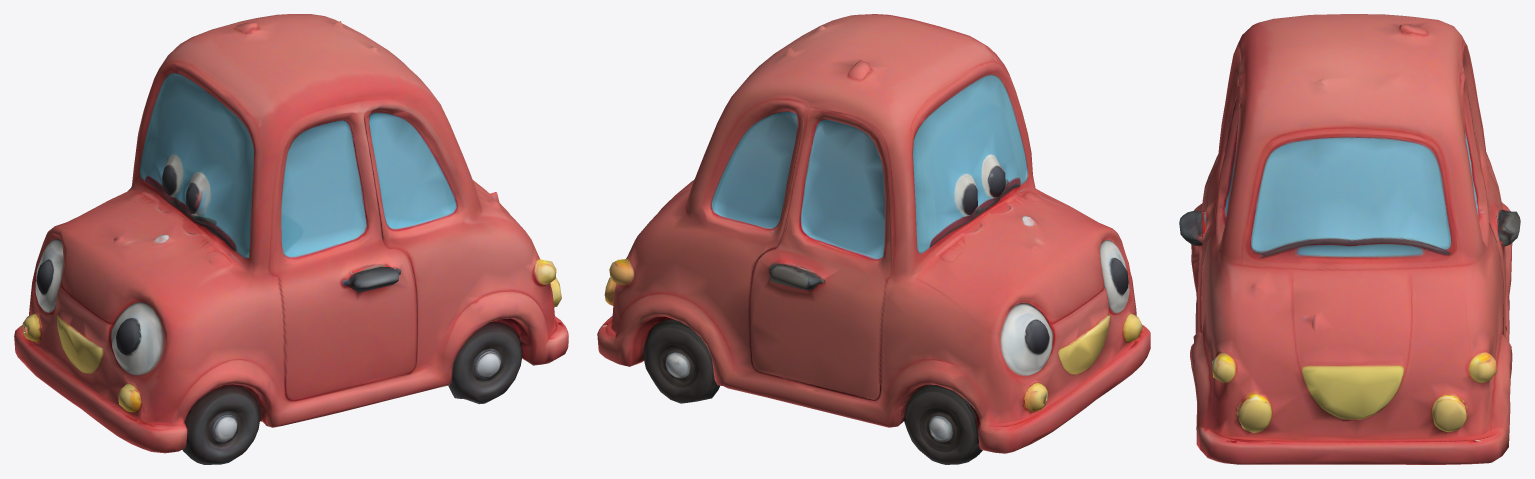
Rendered from car.glb.
3 renders of one model, left to right at view 1: azimuth 30°, elevation 25°; view 2: azimuth 150°, elevation 25°; view 3: azimuth 270°, elevation 25°, orthographic. The views are drawn at different scales.
Size of the model in its own units: 65597 by 49581 by 42901.
Materials: 1 (1 with a texture image).
